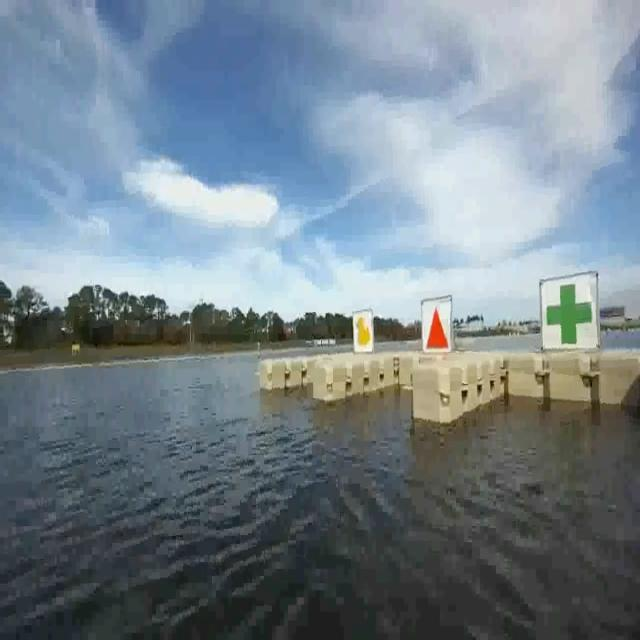blue-cross: (538, 276, 596, 350)
red-dot: (420, 302, 450, 353)
yellow-duck: (353, 310, 376, 356)
